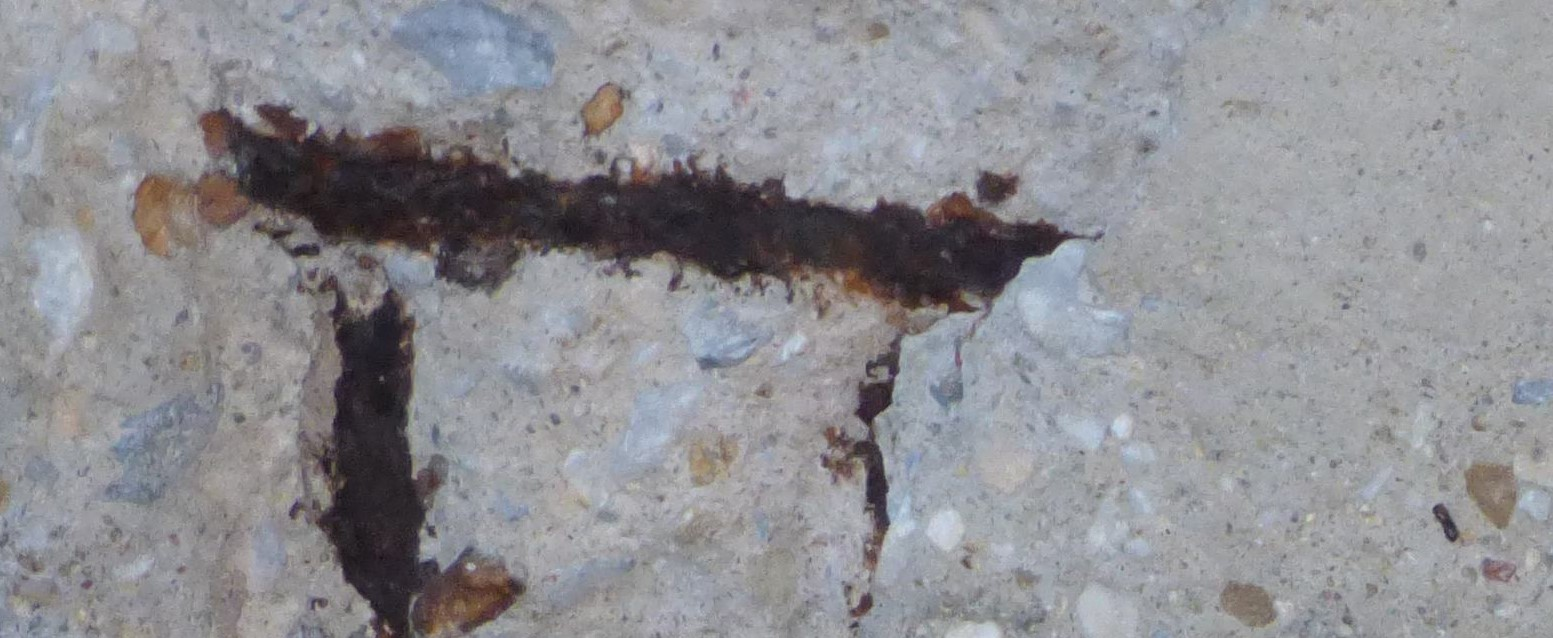Exposed reinforcement: (222, 108, 1102, 317), (313, 285, 429, 638), (850, 375, 893, 638)
